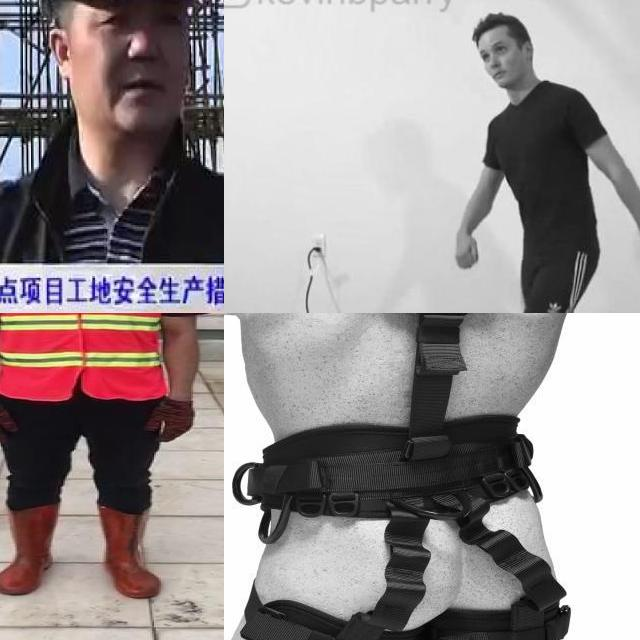Harness: (233, 313, 571, 640)
No_Ear-Protection: (44, 20, 78, 85), (526, 42, 546, 66)
No_Glasses: (88, 0, 203, 53), (490, 36, 511, 58)
boots: (94, 504, 164, 598), (0, 506, 52, 597)
face_nomask: (472, 56, 522, 87)
hand_noglove: (448, 211, 493, 280), (623, 219, 640, 277)
person: (0, 313, 213, 609), (447, 10, 640, 313)
vest: (0, 313, 164, 400)
